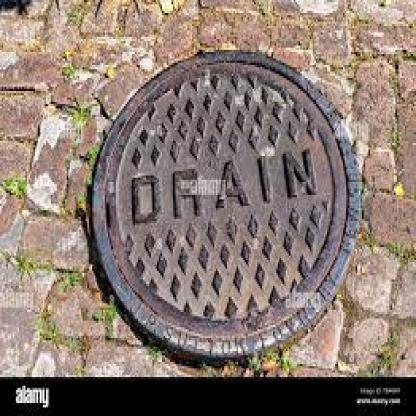closed manhole-not overflowing-: (84, 47, 366, 367)
